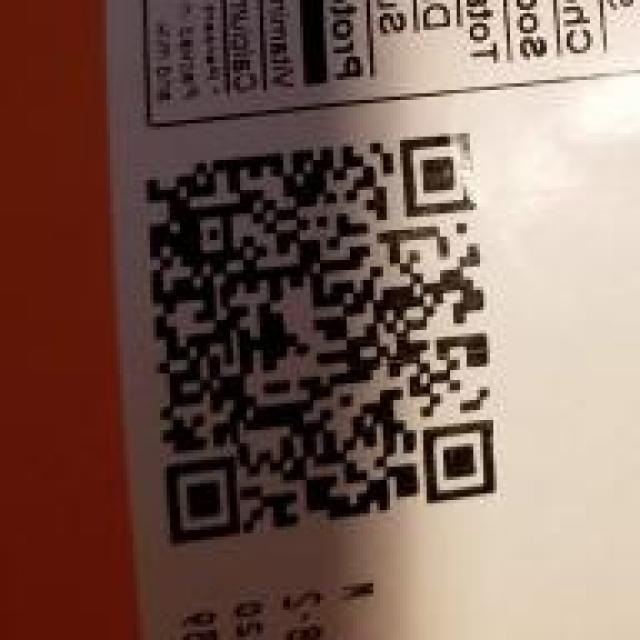qr_code: (145, 131, 497, 548)
